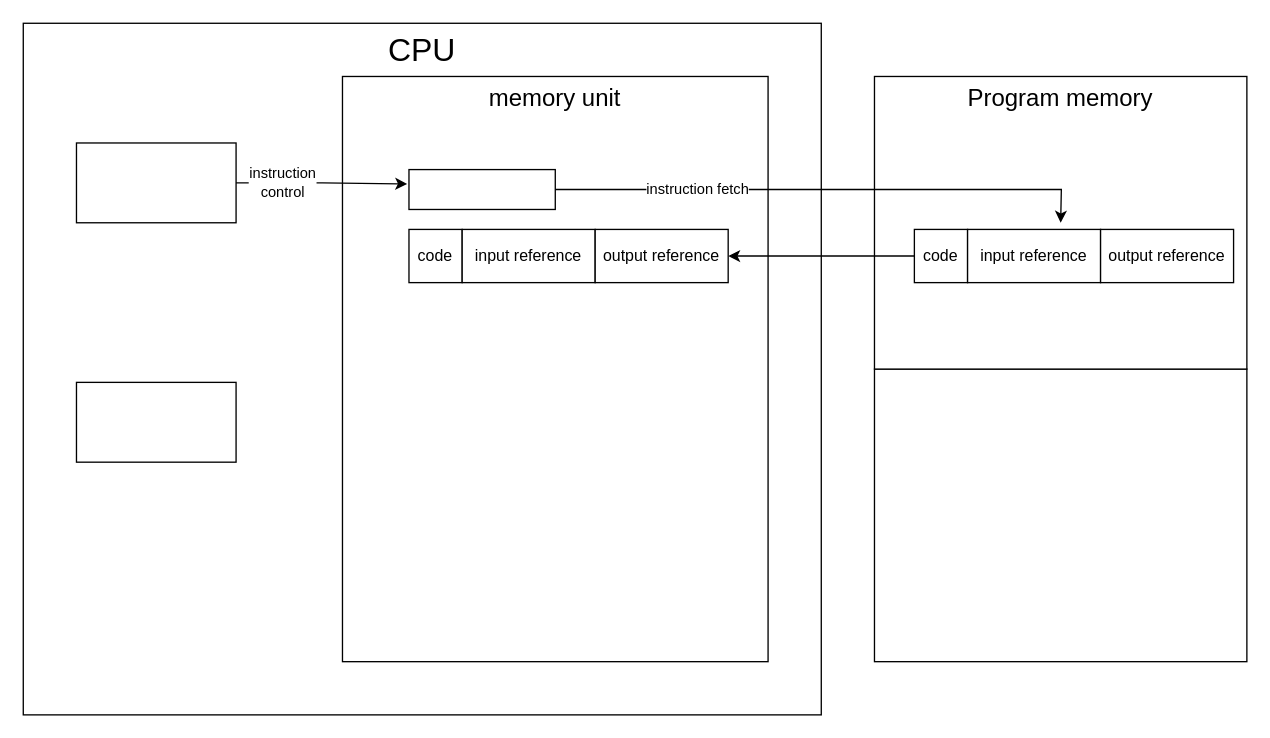
Some shapes in this 1270 by 738 pixel diagram are drawn without their labels. Each missing label, with the centre of its shape:
"arithmetic unit" belongs at (155,421).
"Data memory" belongs at (1060,515).
"instruction counter" belongs at (481,188).
"instruction decoder" belongs at (155,182).
